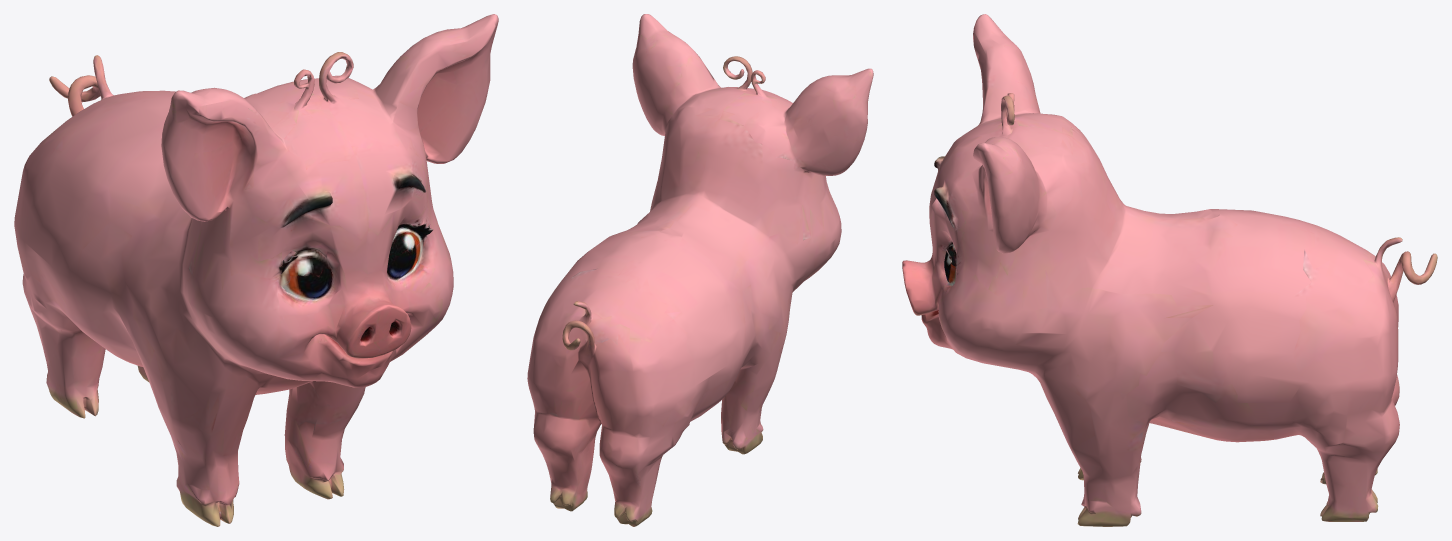
The model's file is pig.glb.
3 views of the same model, side by side, from view 1: azimuth 30°, elevation 25°; view 2: azimuth 150°, elevation 25°; view 3: azimuth 270°, elevation 25° (orthographic). The views are drawn at different scales.
Bounding box in the file's own units: 1.12 × 1.65 × 1.9.
1 material, 1 textured.
